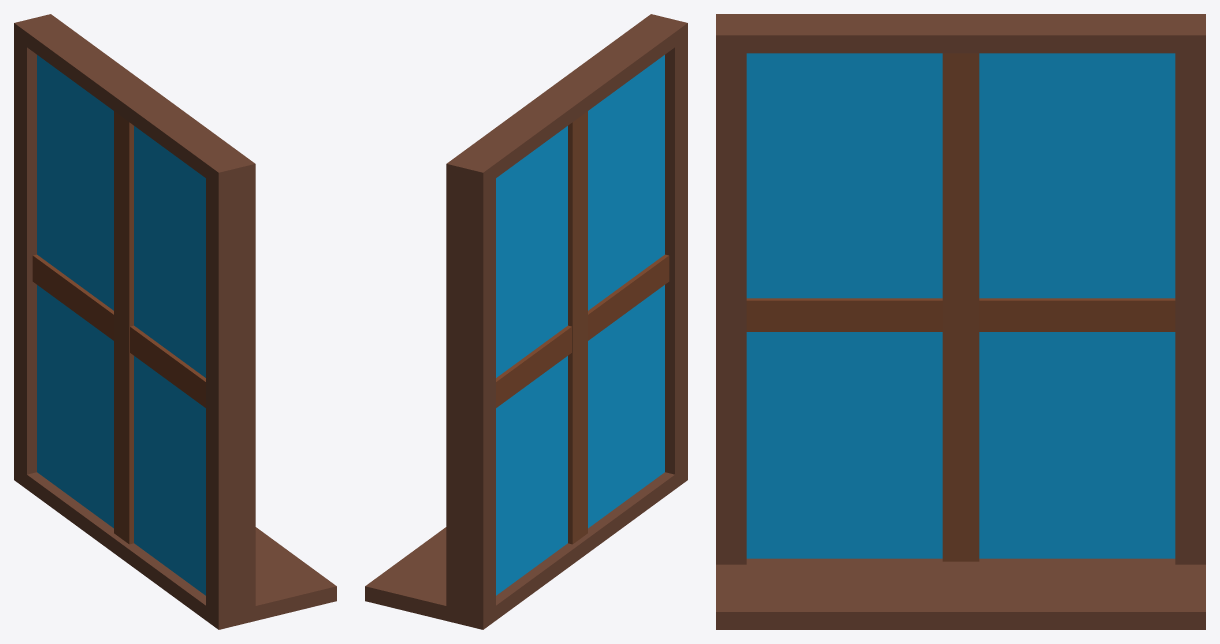
File: window.fbx
The picture shows the model from 3 angles, left to right: view 1: azimuth 30°, elevation 25°; view 2: azimuth 150°, elevation 25°; view 3: azimuth 270°, elevation 25°; orthographic projection. The views are drawn at different scales.
Visible parts, largest first — view 1: Cube.004, Cube, Cube.001, Cube.002, Cube.003; view 2: Cube.004, Cube.001, Cube, Cube.002, Cube.003; view 3: Cube.004, Cube, Cube.001, Cube.002, Cube.003.
Part boxes in pixels (<box>): Cube.004: <box>37,55,205,595</box>; Cube: <box>14,178,336,629</box>; Cube.001: <box>14,14,255,474</box>; Cube.002: <box>114,111,133,544</box>; Cube.003: <box>32,254,205,407</box>; Cube.004: <box>496,55,664,595</box>; Cube.001: <box>446,14,687,614</box>; Cube: <box>365,38,687,629</box>; Cube.002: <box>568,111,587,544</box>; Cube.003: <box>496,254,669,407</box>; Cube.004: <box>746,53,1175,558</box>; Cube: <box>716,53,1205,629</box>; Cube.001: <box>716,14,1205,564</box>; Cube.002: <box>942,53,979,561</box>; Cube.003: <box>746,298,1175,331</box>.
Bounding box in the file's own units: 368 × 1363 × 1106.
